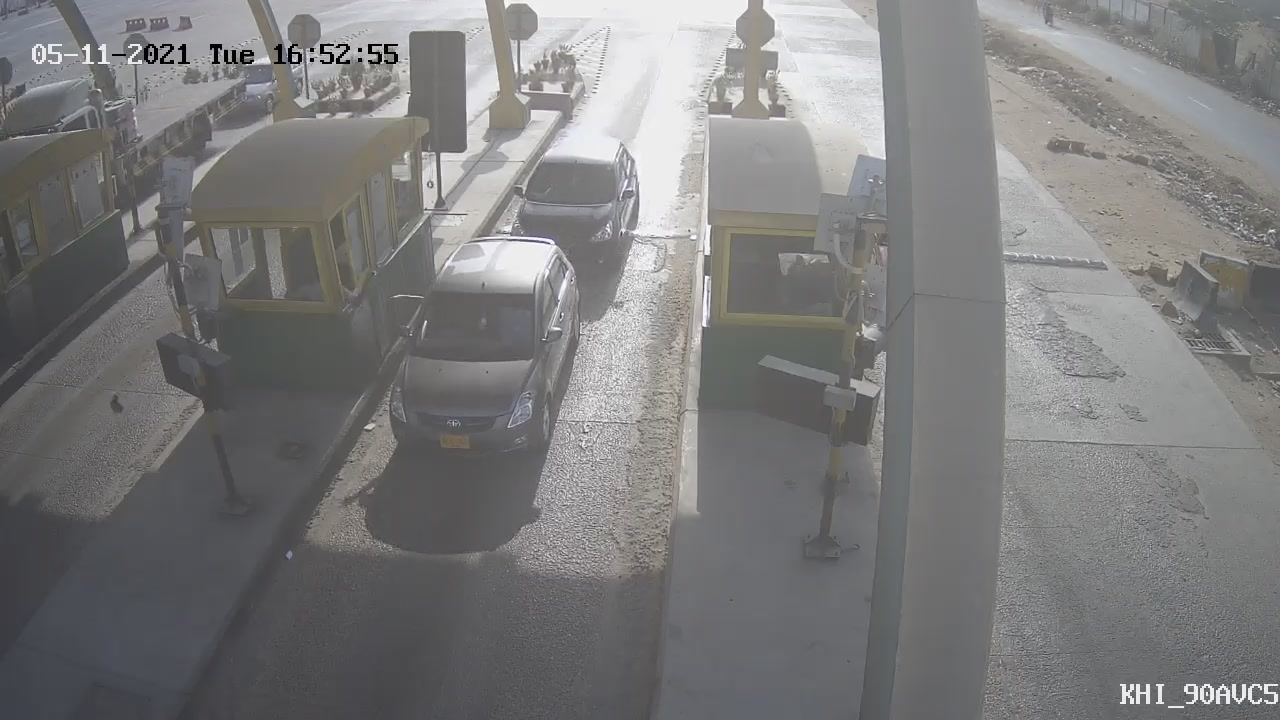F1: (369, 213, 600, 485), (499, 125, 655, 290)
